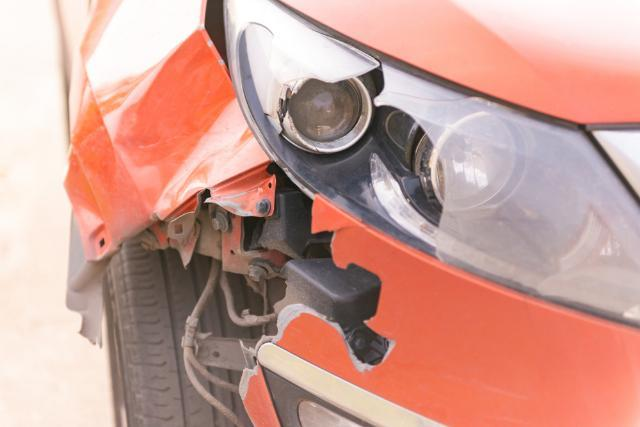lamp broken: (204, 0, 640, 327)
no part: (85, 165, 395, 387)
